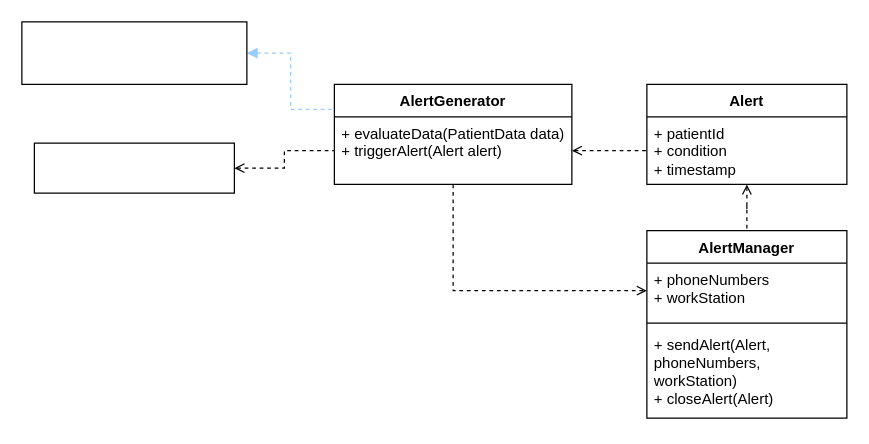
The diagram is 869 pixels wide and 444 high, and some of its shapes have lost their labels. The centre of each missing label's shape, as x and y in pixels:
"Data Storage System" goes at point (133, 167).
"«interface» Patient Identification System" goes at point (134, 52).
